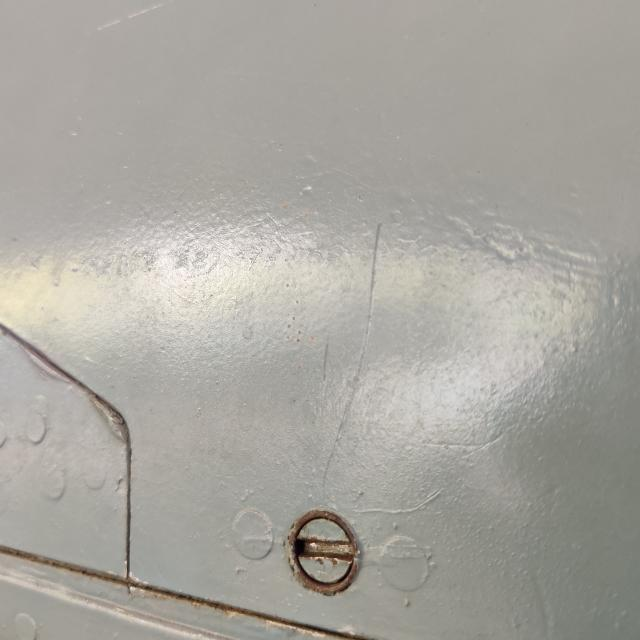scratch: (310, 218, 415, 497)
